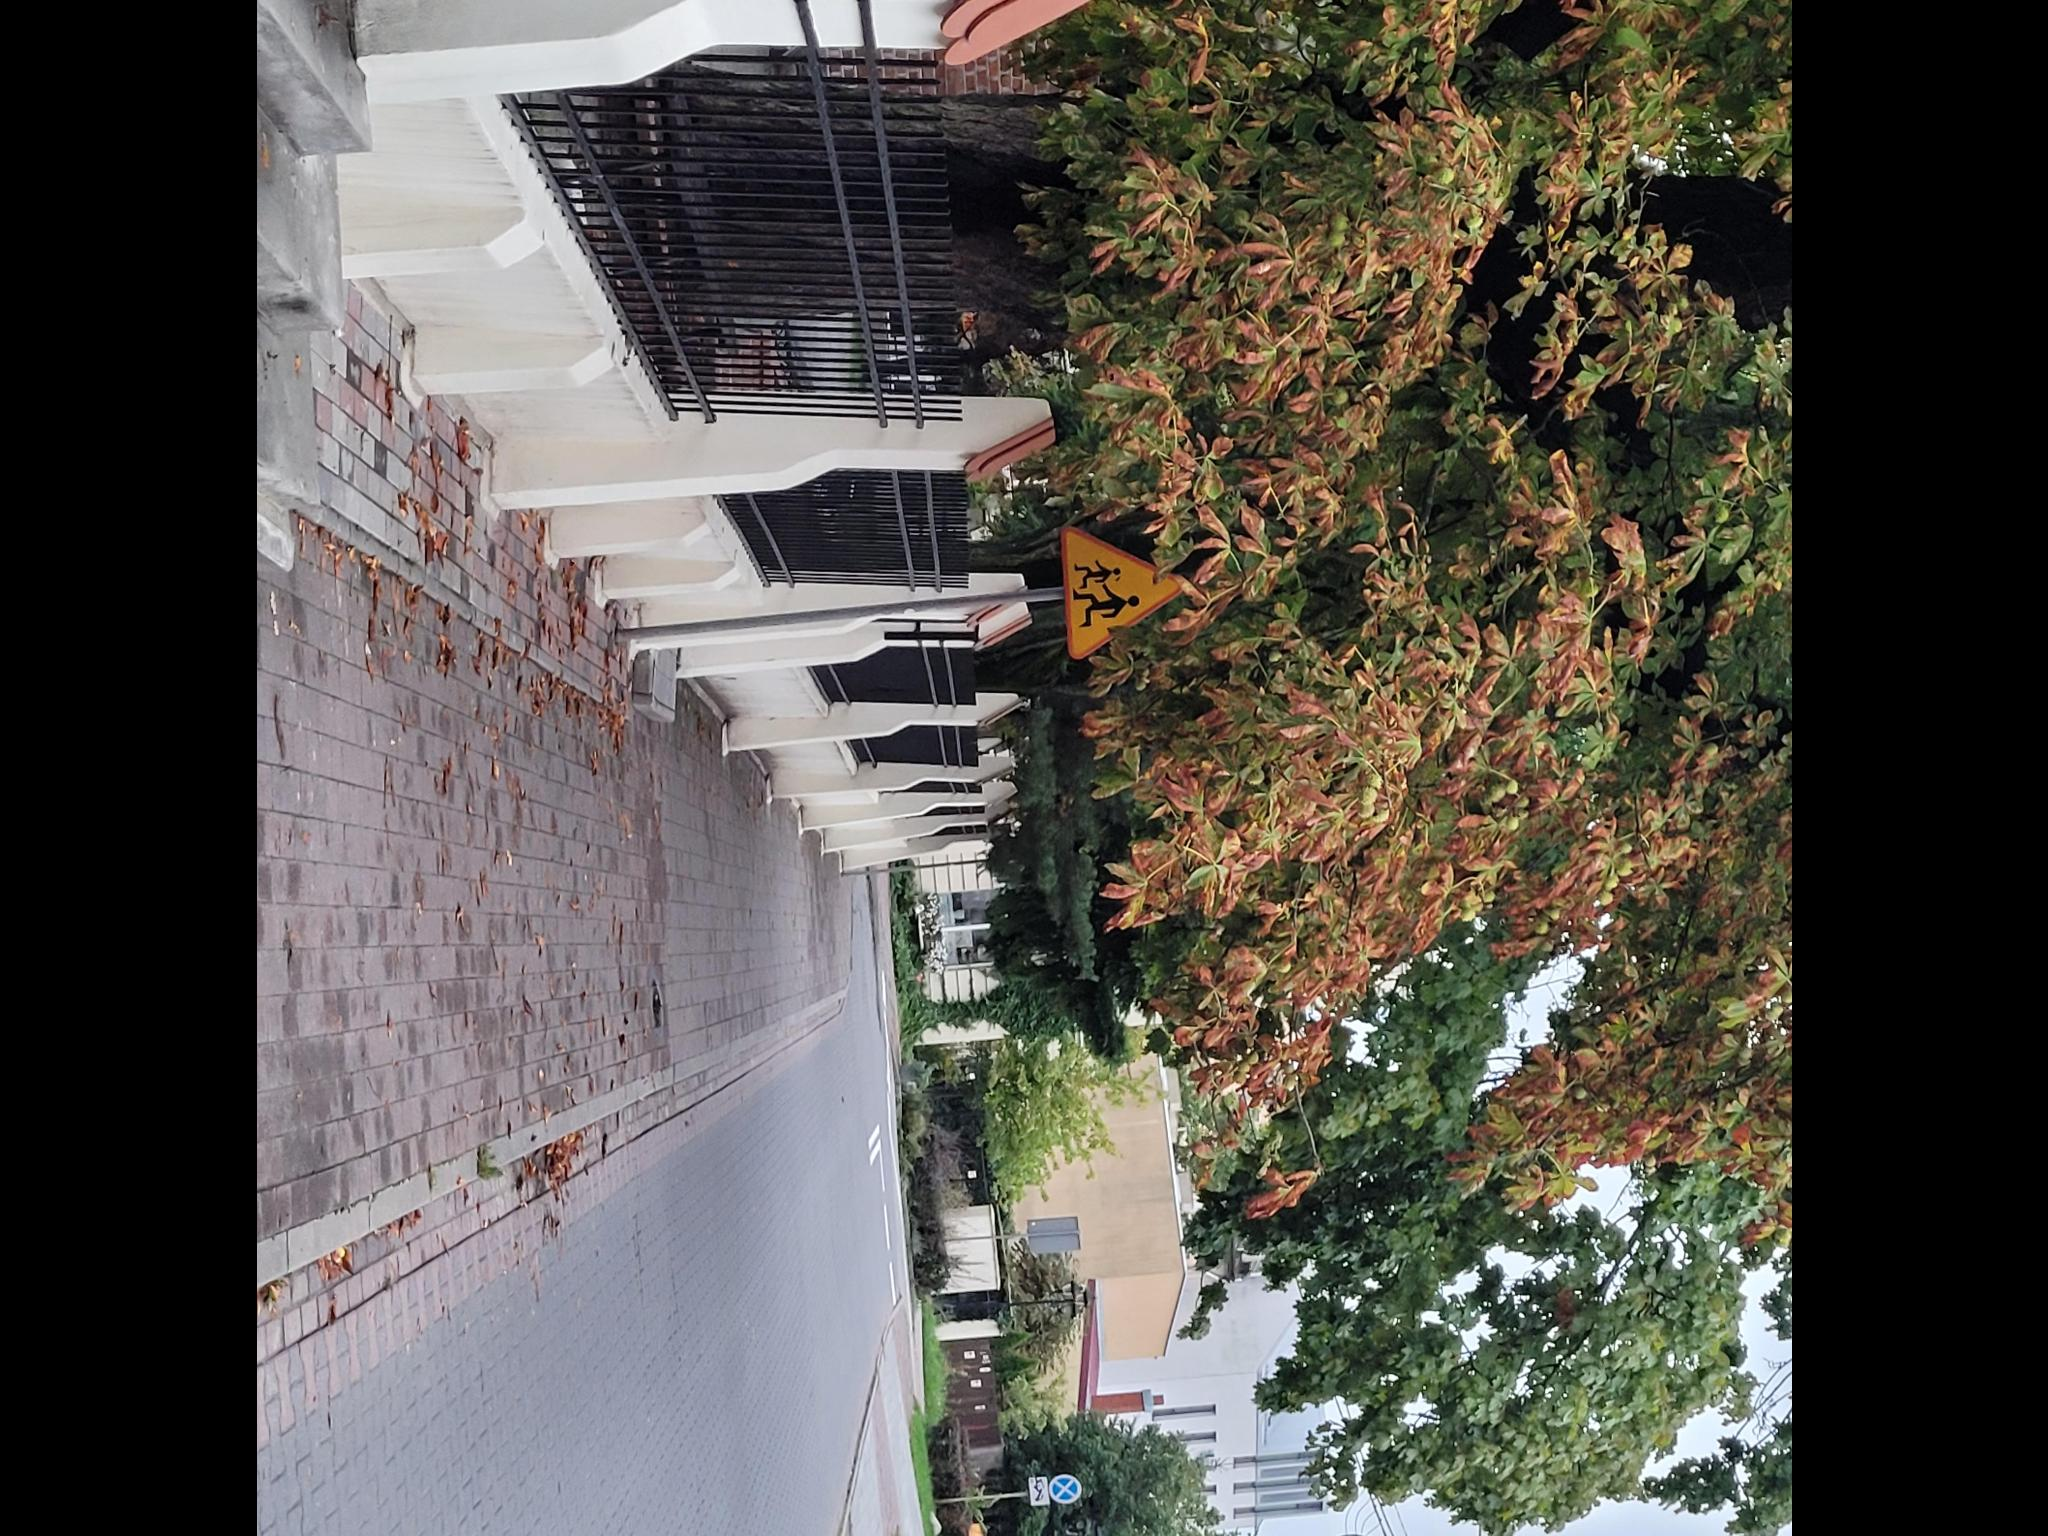warning: (1056, 524, 1185, 666)
